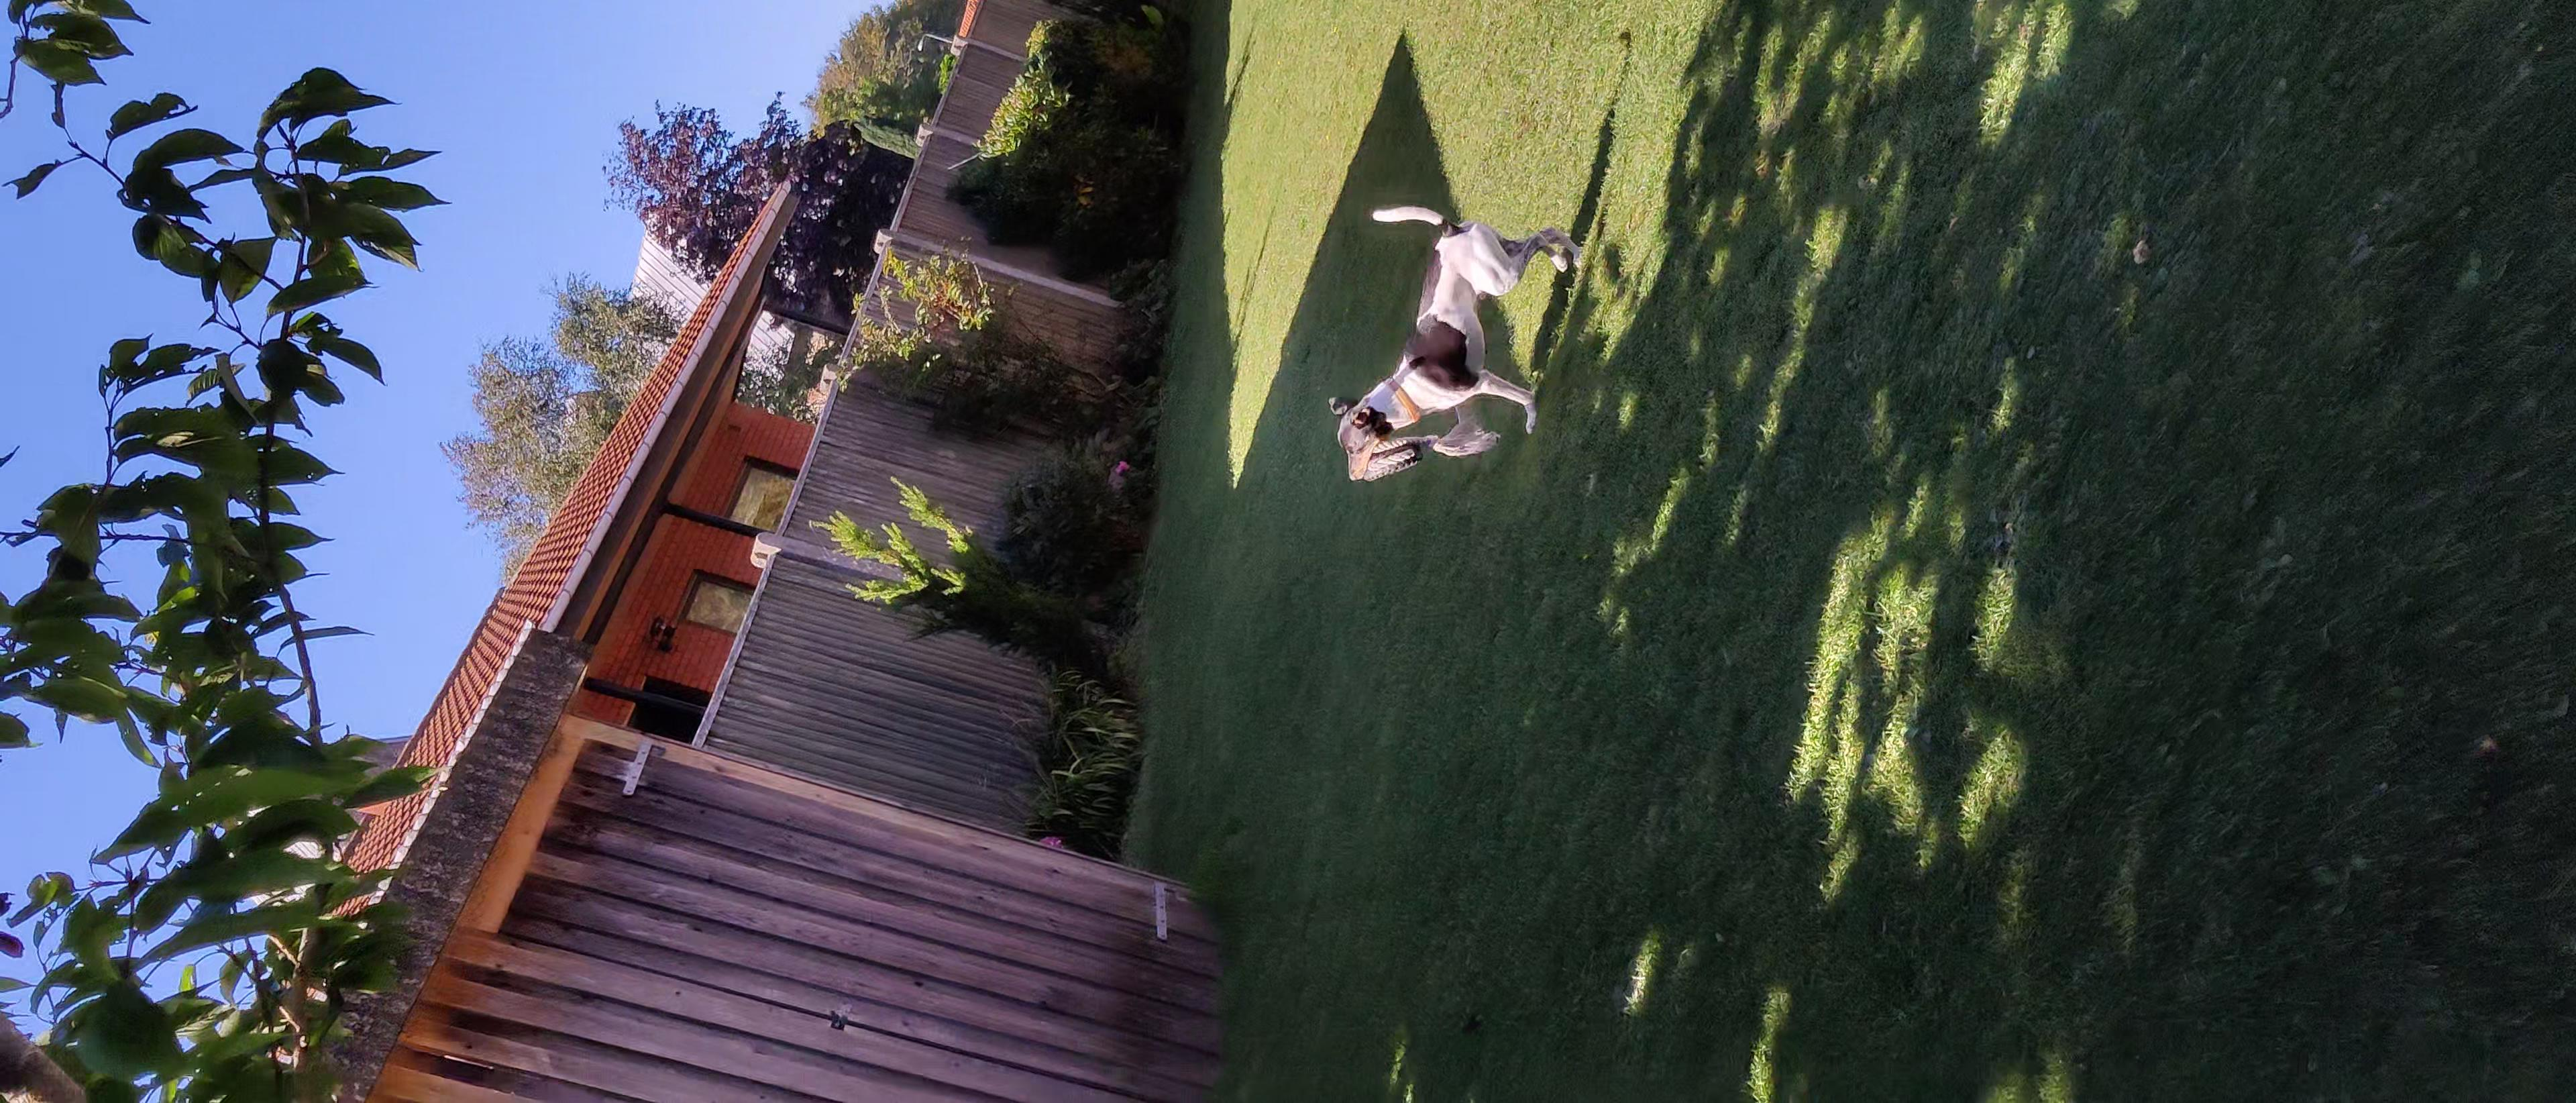Dog: (1324, 201, 1587, 483)
